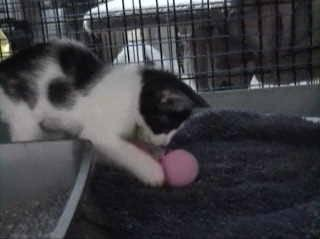cat: (0, 39, 206, 184)
